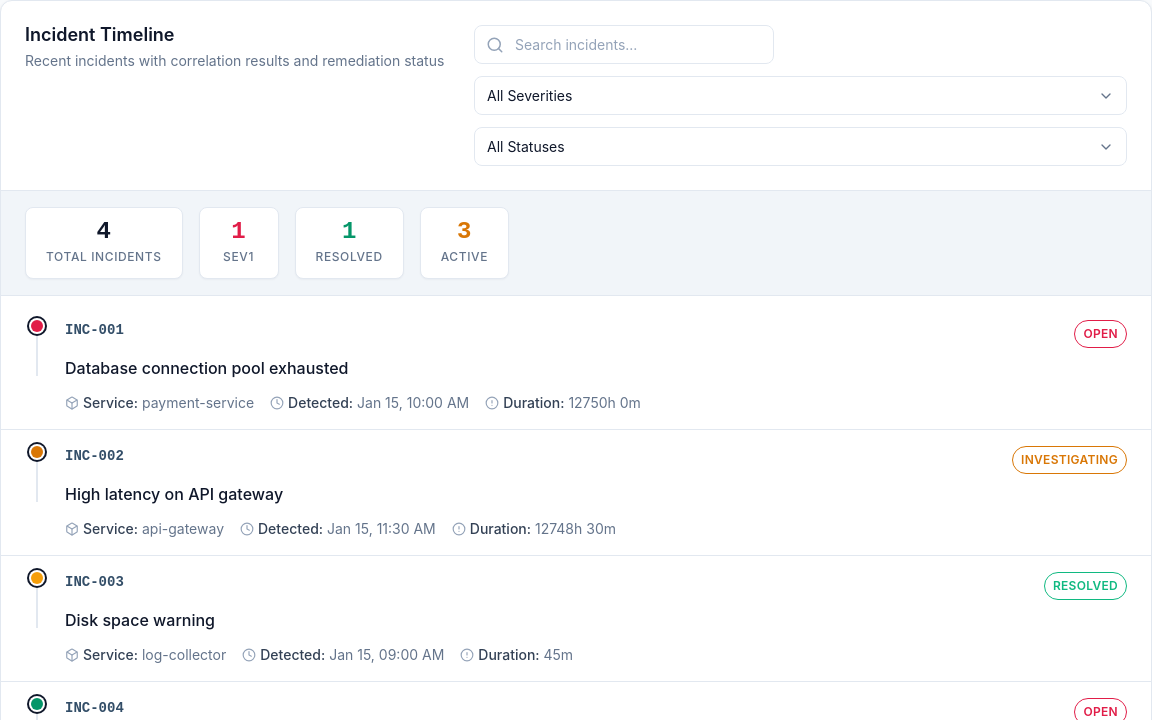
Test: IncidentTimeline › shows empty state when no incidents match filters
Select "SEV1 - Critical" in the dropdown named "Filter by severity" at (800, 96), box [474,76,1127,115]
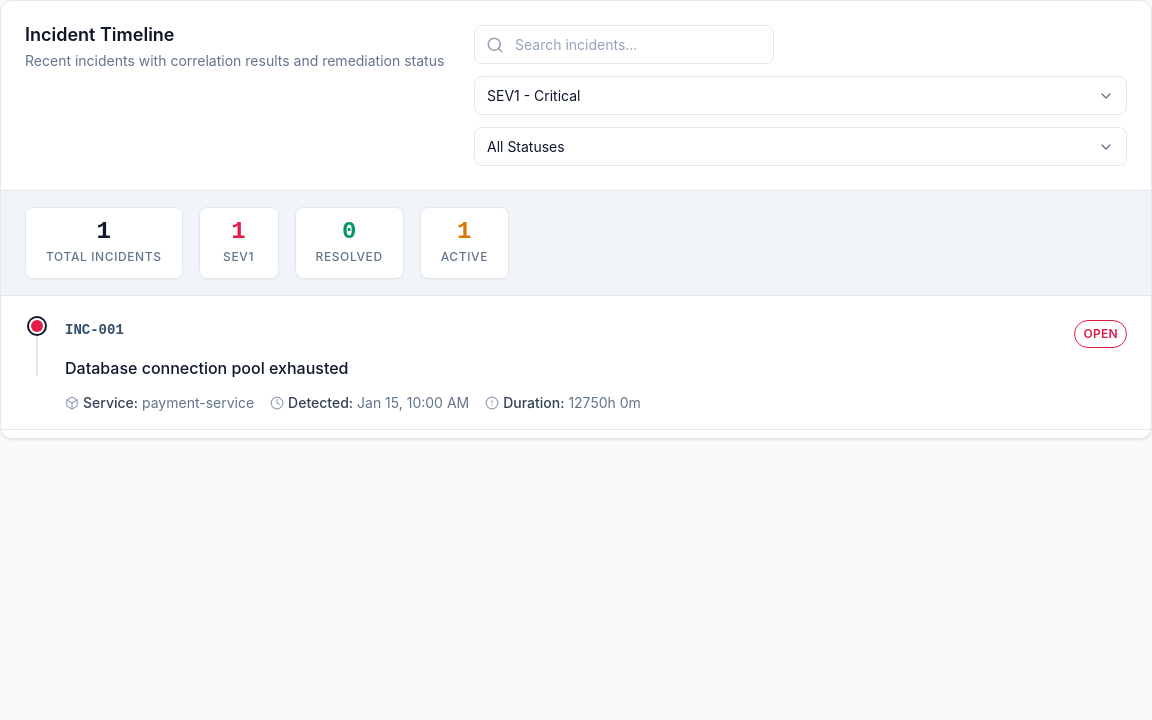
Select "Resolved" in the dropdown named "Filter by status" at (800, 146), box [474,127,1127,166]
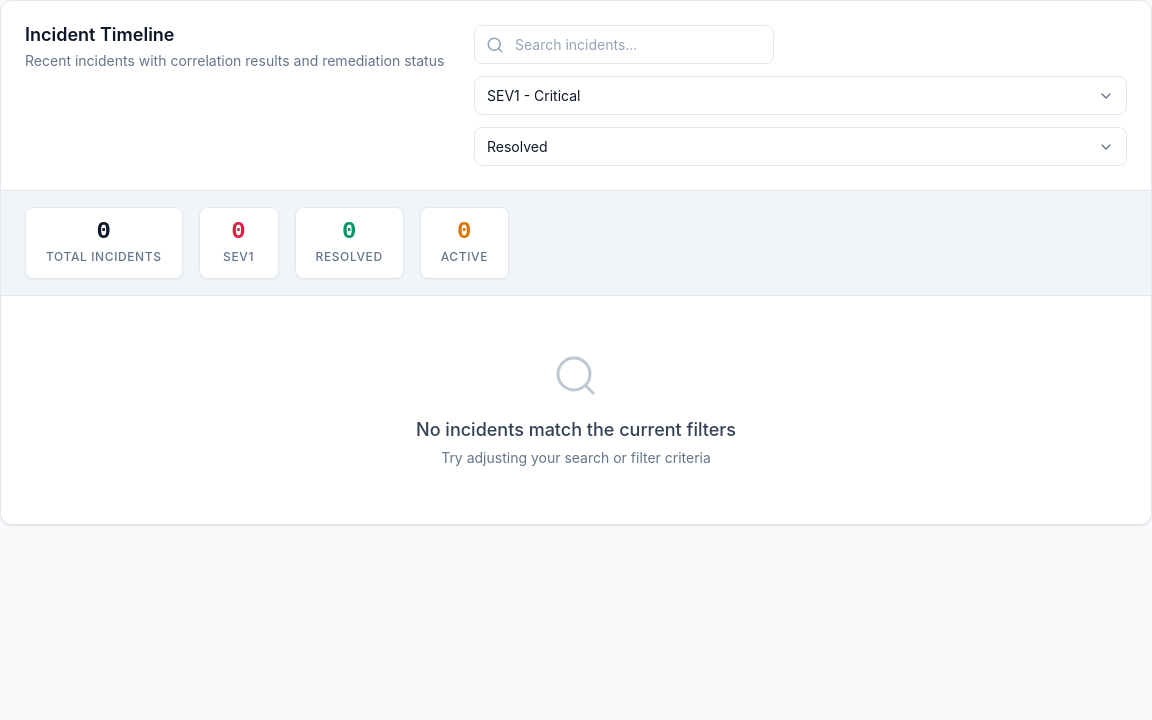
Expected: the text "No incidents match the current filters" is shown, [416,416,736,443]
